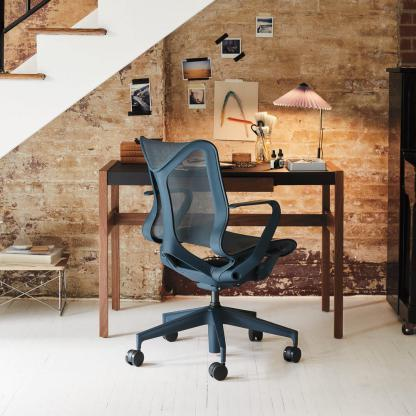chair: (117, 140, 301, 394)
light: (266, 79, 341, 161)
table: (98, 160, 356, 344), (0, 251, 76, 315)
